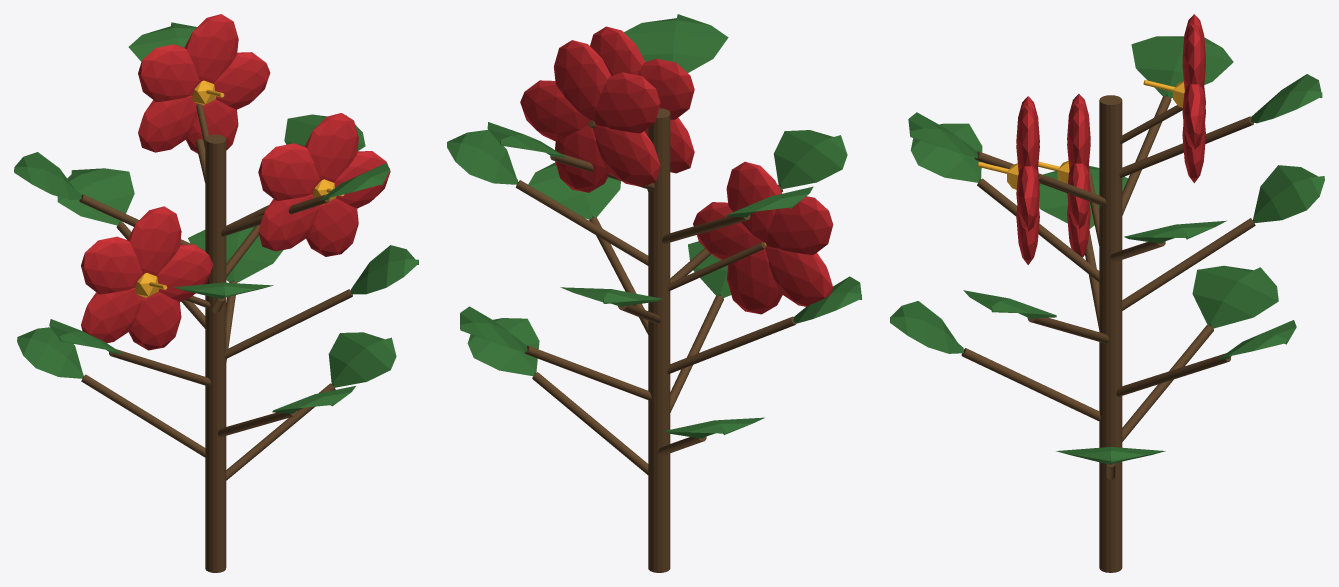
The picture shows the model from 3 angles, left to right: view 1: azimuth 30°, elevation 25°; view 2: azimuth 150°, elevation 25°; view 3: azimuth 270°, elevation 25°; orthographic projection. The views are drawn at different scales.
Parts seen in each view (by area): view 1: HIBISCUS_Stem, HIBISCUS_Leaf_0, HIBISCUS_Flower_1_Petal.003, HIBISCUS_Flower_2_Petal.003, HIBISCUS_Flower_0_Petal.003, HIBISCUS_Leaf_6, HIBISCUS_Flower_2_Petal.002, HIBISCUS_Flower_1_Petal.002, HIBISCUS_Flower_0_Petal.002, HIBISCUS_Flower_2_Petal.004, HIBISCUS_Flower_1_Petal.004, HIBISCUS_Flower_0_Petal.004 (+23 smaller); view 2: HIBISCUS_Stem, HIBISCUS_Leaf_10, HIBISCUS_Leaf_7, HIBISCUS_Flower_2_Petal.003, HIBISCUS_Flower_2_Petal.002, HIBISCUS_Flower_2_Petal.004, HIBISCUS_Flower_1_Petal.003, HIBISCUS_Flower_1_Petal.004, HIBISCUS_Flower_2_Petal.001, HIBISCUS_Leaf_8, HIBISCUS_Flower_1_Petal, HIBISCUS_Flower_1_Petal.002 (+22 smaller); view 3: HIBISCUS_Stem, HIBISCUS_Leaf_1, HIBISCUS_Leaf_9, HIBISCUS_Leaf_6, HIBISCUS_Leaf_7, HIBISCUS_Leaf_2, HIBISCUS_Leaf_11, HIBISCUS_Branch.006, HIBISCUS_Branch.002, HIBISCUS_Leaf_10, HIBISCUS_Leaf_4, HIBISCUS_Flower_0_Petal.001 (+20 smaller).
Boxes of the visible parts, box(x1,y1,x2,y2) form: HIBISCUS_Stem: box(205, 134, 226, 572); HIBISCUS_Leaf_0: box(328, 332, 396, 387); HIBISCUS_Flower_1_Petal.003: box(81, 236, 142, 294); HIBISCUS_Flower_2_Petal.003: box(138, 44, 199, 101); HIBISCUS_Flower_0_Petal.003: box(258, 143, 319, 200); HIBISCUS_Leaf_6: box(57, 168, 134, 225); HIBISCUS_Flower_2_Petal.002: box(184, 14, 238, 83); HIBISCUS_Flower_1_Petal.002: box(127, 206, 181, 275); HIBISCUS_Flower_0_Petal.002: box(305, 113, 358, 182); HIBISCUS_Flower_2_Petal.004: box(138, 95, 197, 152); HIBISCUS_Flower_1_Petal.004: box(81, 288, 142, 343); HIBISCUS_Flower_0_Petal.004: box(258, 194, 319, 251); HIBISCUS_Stem: box(648, 108, 670, 572); HIBISCUS_Leaf_10: box(624, 14, 728, 72); HIBISCUS_Leaf_7: box(773, 130, 847, 188); HIBISCUS_Flower_2_Petal.003: box(594, 72, 660, 133); HIBISCUS_Flower_2_Petal.002: box(554, 40, 611, 120); HIBISCUS_Flower_2_Petal.004: box(593, 125, 660, 186); HIBISCUS_Flower_1_Petal.003: box(766, 196, 833, 254); HIBISCUS_Flower_1_Petal.004: box(765, 245, 833, 306); HIBISCUS_Flower_2_Petal.001: box(520, 80, 590, 141); HIBISCUS_Leaf_8: box(447, 130, 518, 184); HIBISCUS_Flower_1_Petal: box(726, 249, 782, 314); HIBISCUS_Flower_1_Petal.002: box(726, 161, 781, 243); HIBISCUS_Stem: box(1099, 95, 1122, 572); HIBISCUS_Leaf_1: box(1192, 265, 1278, 328); HIBISCUS_Leaf_9: box(1131, 36, 1233, 98); HIBISCUS_Leaf_6: box(1252, 165, 1324, 223); HIBISCUS_Leaf_7: box(910, 123, 982, 182); HIBISCUS_Leaf_2: box(890, 301, 963, 353); HIBISCUS_Leaf_11: box(1251, 74, 1322, 123); HIBISCUS_Branch.006: box(1122, 218, 1255, 310); HIBISCUS_Branch.002: box(961, 348, 1100, 421); HIBISCUS_Leaf_10: box(908, 112, 978, 158); HIBISCUS_Leaf_4: box(1039, 166, 1128, 228); HIBISCUS_Flower_0_Petal.001: box(1016, 166, 1039, 231).
Bounding box in the file's own units: 0.9528 × 1.34 × 0.942.
